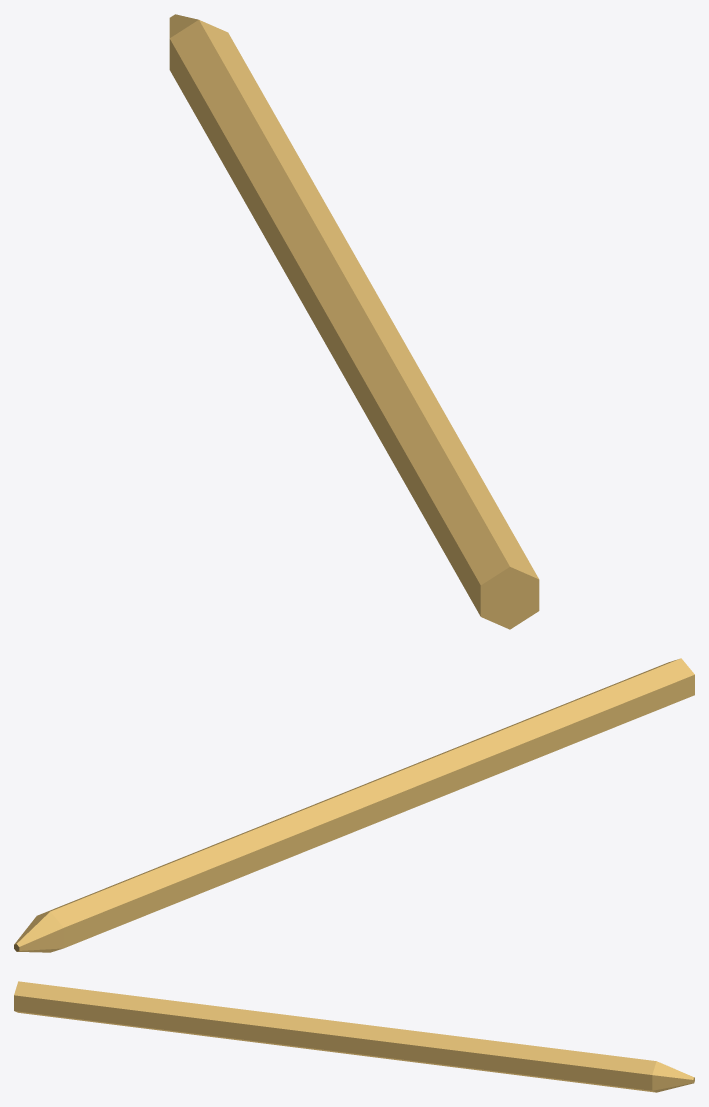
The model's file is Crayon.fbx.
The picture shows the model from 3 angles, top to bottom: view 1: azimuth 30°, elevation 25°; view 2: azimuth 150°, elevation 25°; view 3: azimuth 270°, elevation 25°; orthographic projection. The views are drawn at different scales.
Visible parts, largest first — view 1: Crayon; view 2: Crayon; view 3: Crayon.
Boxes of the visible parts, bbox=[...] form: Crayon: bbox=[169, 14, 539, 629]; Crayon: bbox=[14, 658, 694, 952]; Crayon: bbox=[14, 981, 694, 1092].
Size of the model in its own units: 5.51 by 0.8802 by 17.25.
